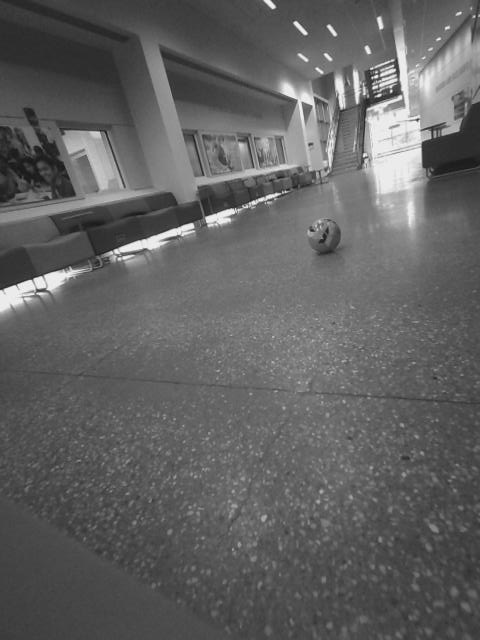ball: (304, 214, 344, 255)
